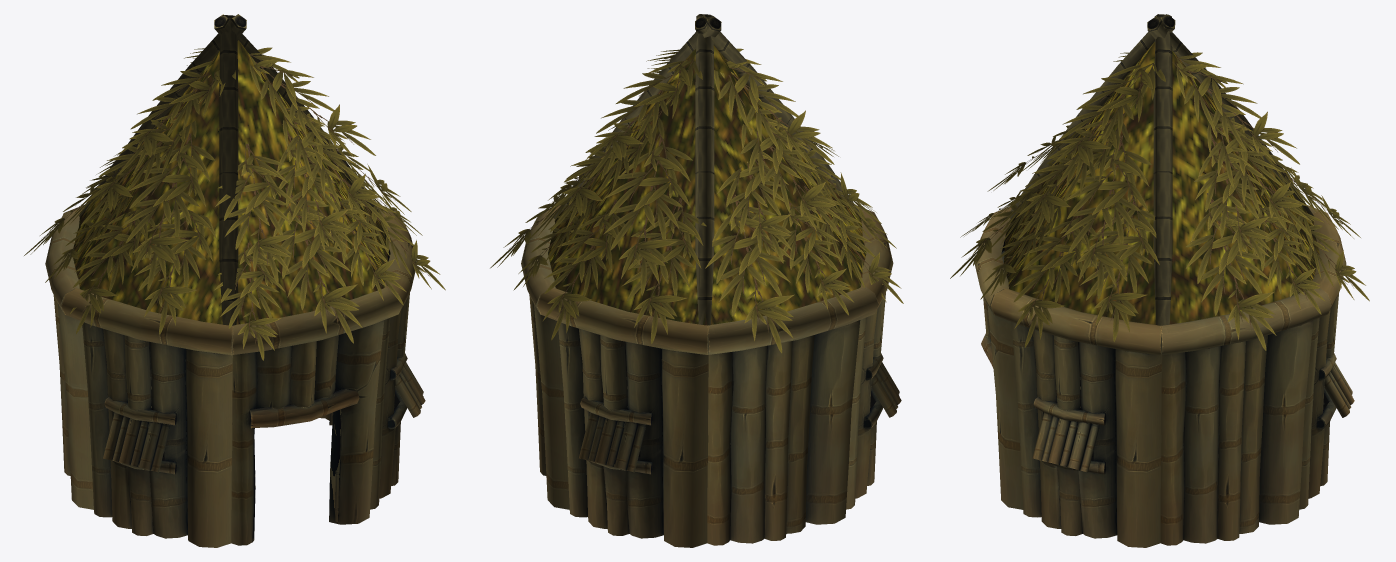
File: bamboo_house_01.FBX
The picture shows the model from 3 angles, left to right: view 1: azimuth 30°, elevation 25°; view 2: azimuth 150°, elevation 25°; view 3: azimuth 270°, elevation 25°; orthographic projection.
Visible parts, largest first — view 1: bamboo_house_01; view 2: bamboo_house_01; view 3: bamboo_house_01.
Part boxes in pixels (x1=…): bamboo_house_01: x1=24, y1=14, x2=445, y2=547; bamboo_house_01: x1=490, y1=14, x2=903, y2=547; bamboo_house_01: x1=950, y1=14, x2=1369, y2=547.
Bounding box in the file's own units: 630 × 745 × 638.
